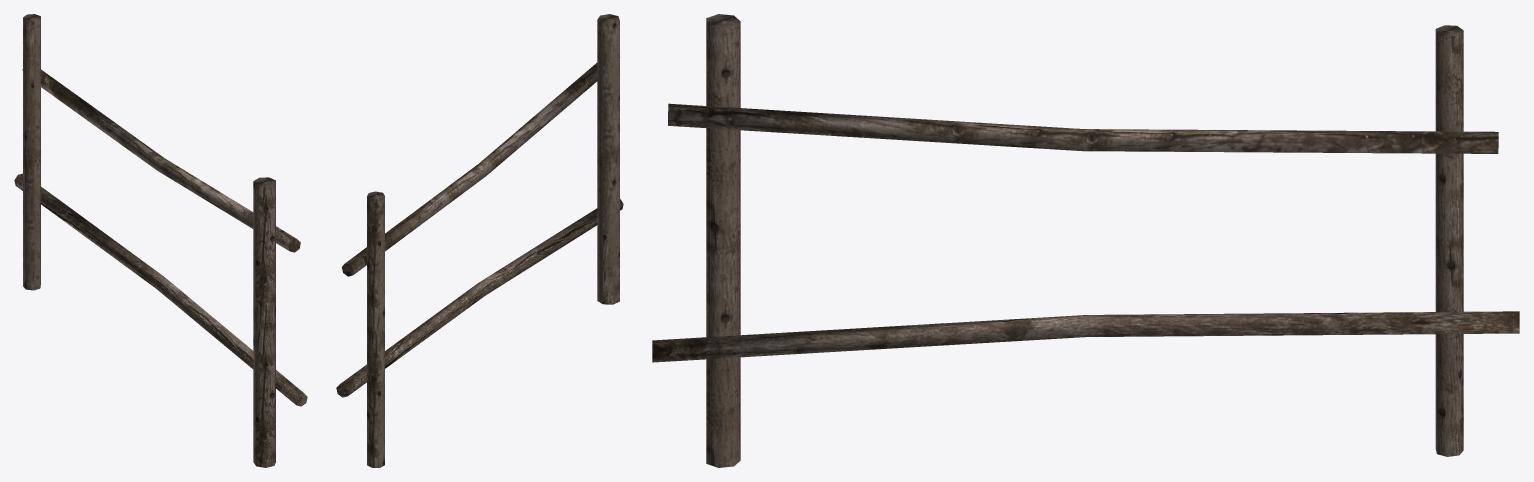
The model's file is fence.glb.
The picture shows the model from 3 angles, left to right: view 1: azimuth 30°, elevation 25°; view 2: azimuth 150°, elevation 25°; view 3: azimuth 270°, elevation 25°; orthographic projection. The views are drawn at different scales.
Parts seen in each view (by area): view 1: fence_2; view 2: fence_2; view 3: fence_2.
Boxes of the visible parts, left/top/right/bottom form: fence_2: left=14, top=14, right=307, bottom=467; fence_2: left=336, top=14, right=623, bottom=467; fence_2: left=652, top=14, right=1519, bottom=467.
Bounding box in the file's own units: 0.0315 × 0.2816 × 0.5044.
Materials: 1 (1 with a texture image).
